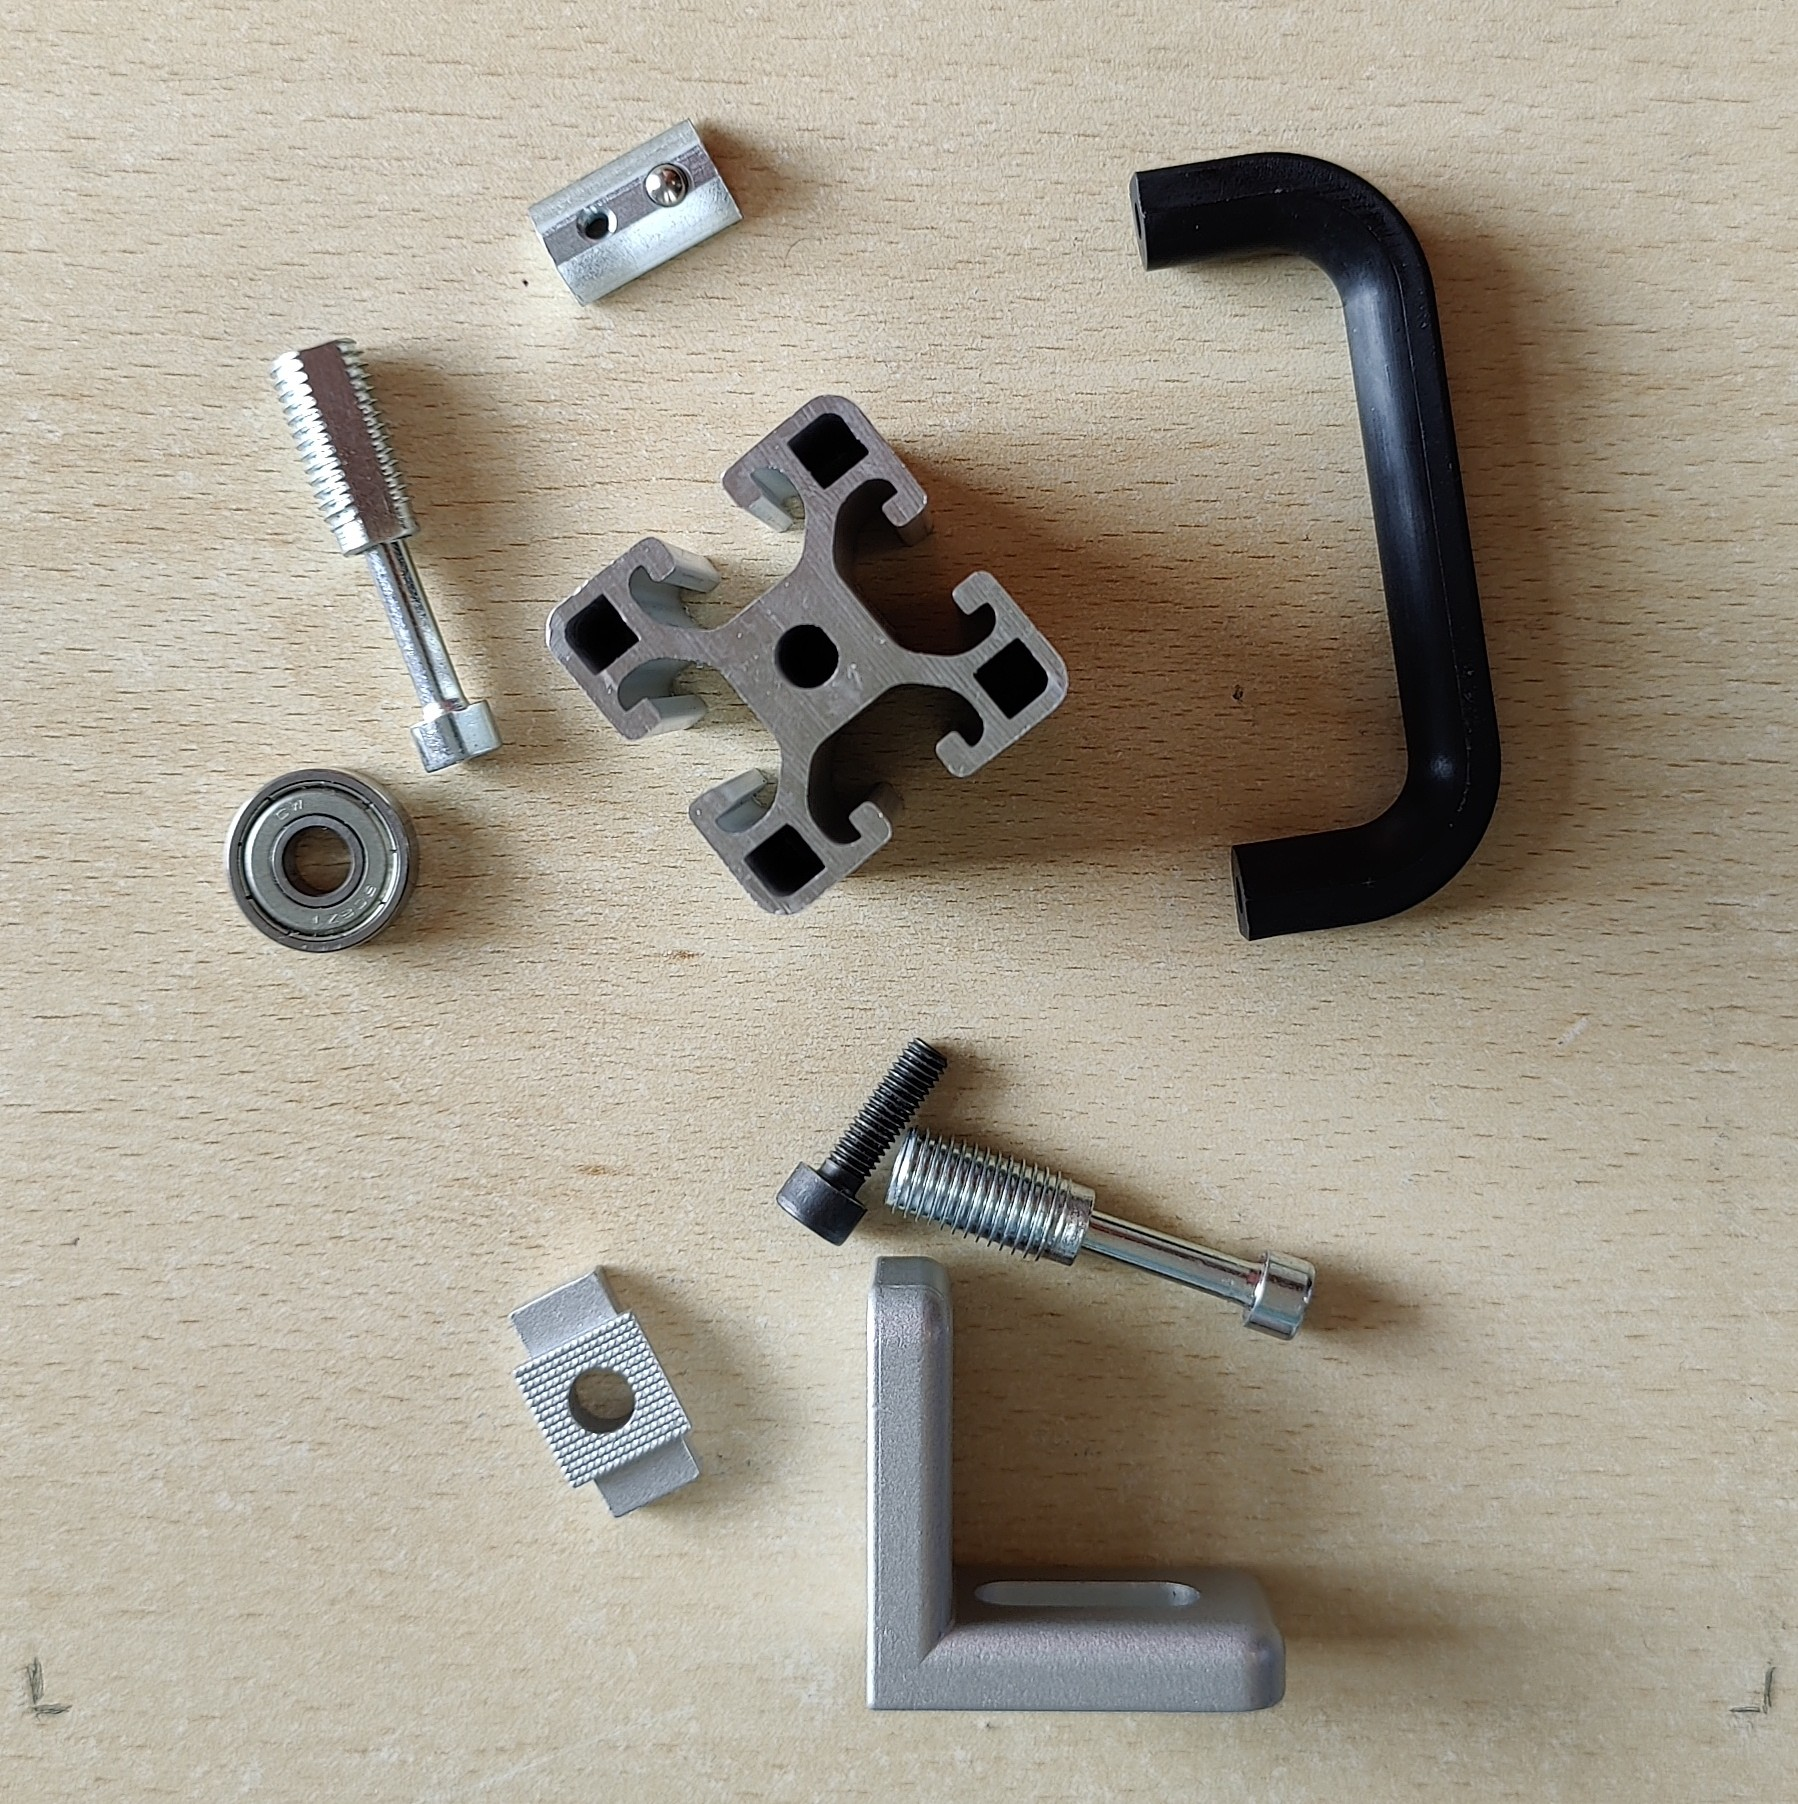Aluminium Extension: (545, 392, 1072, 918)
Ball Bearing: (224, 770, 422, 955)
Multiwinkel: (861, 1253, 1289, 1717)
Pull Handle: (1126, 146, 1503, 945)
Shoulder Socket Head Cap Screw: (265, 334, 504, 774), (884, 1121, 1322, 1341)
Socket Head Cap Screw: (772, 1034, 950, 1248)
T Nut Square: (505, 1259, 705, 1521)
T Spring Nut: (524, 114, 744, 309)
